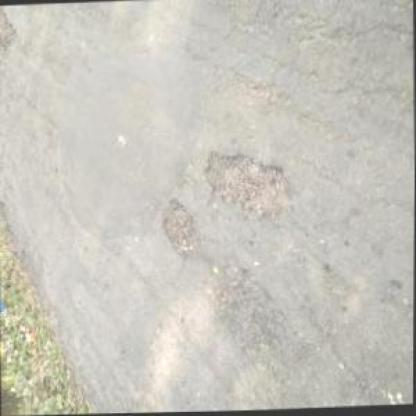pothole: (202, 258, 287, 373), (201, 148, 297, 222), (161, 194, 205, 262)
